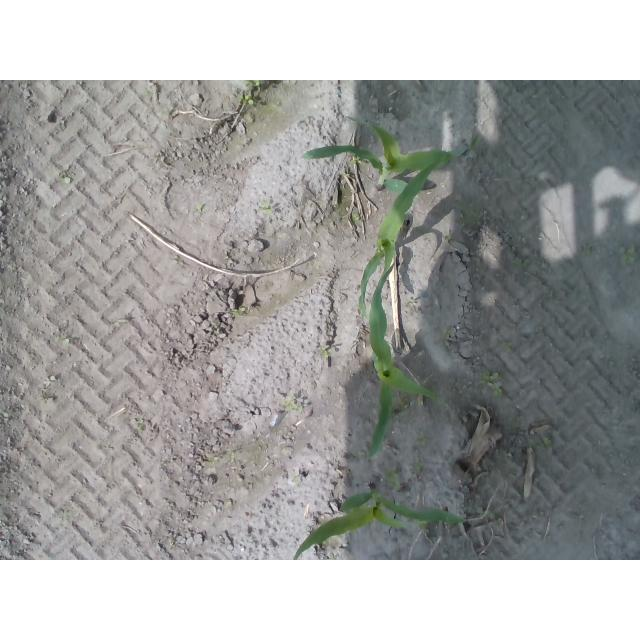Maize: (366, 259, 439, 461), (355, 156, 441, 320), (292, 484, 466, 561), (299, 112, 451, 191)
Weeds: (480, 368, 505, 396), (383, 466, 402, 495), (282, 394, 306, 415), (618, 243, 639, 264), (237, 94, 255, 106), (415, 457, 425, 476), (415, 434, 429, 447), (320, 345, 333, 358), (398, 398, 410, 411), (262, 202, 273, 214), (245, 80, 261, 88), (350, 156, 362, 166), (62, 176, 71, 188), (352, 214, 361, 223)
